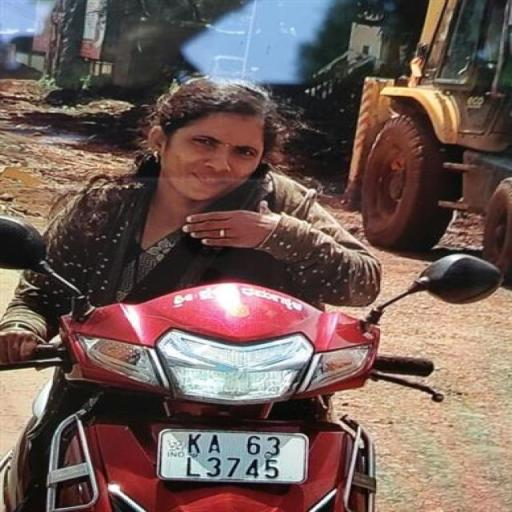numberplate: (156, 429, 308, 483)
using mobile: (210, 148, 284, 246)
